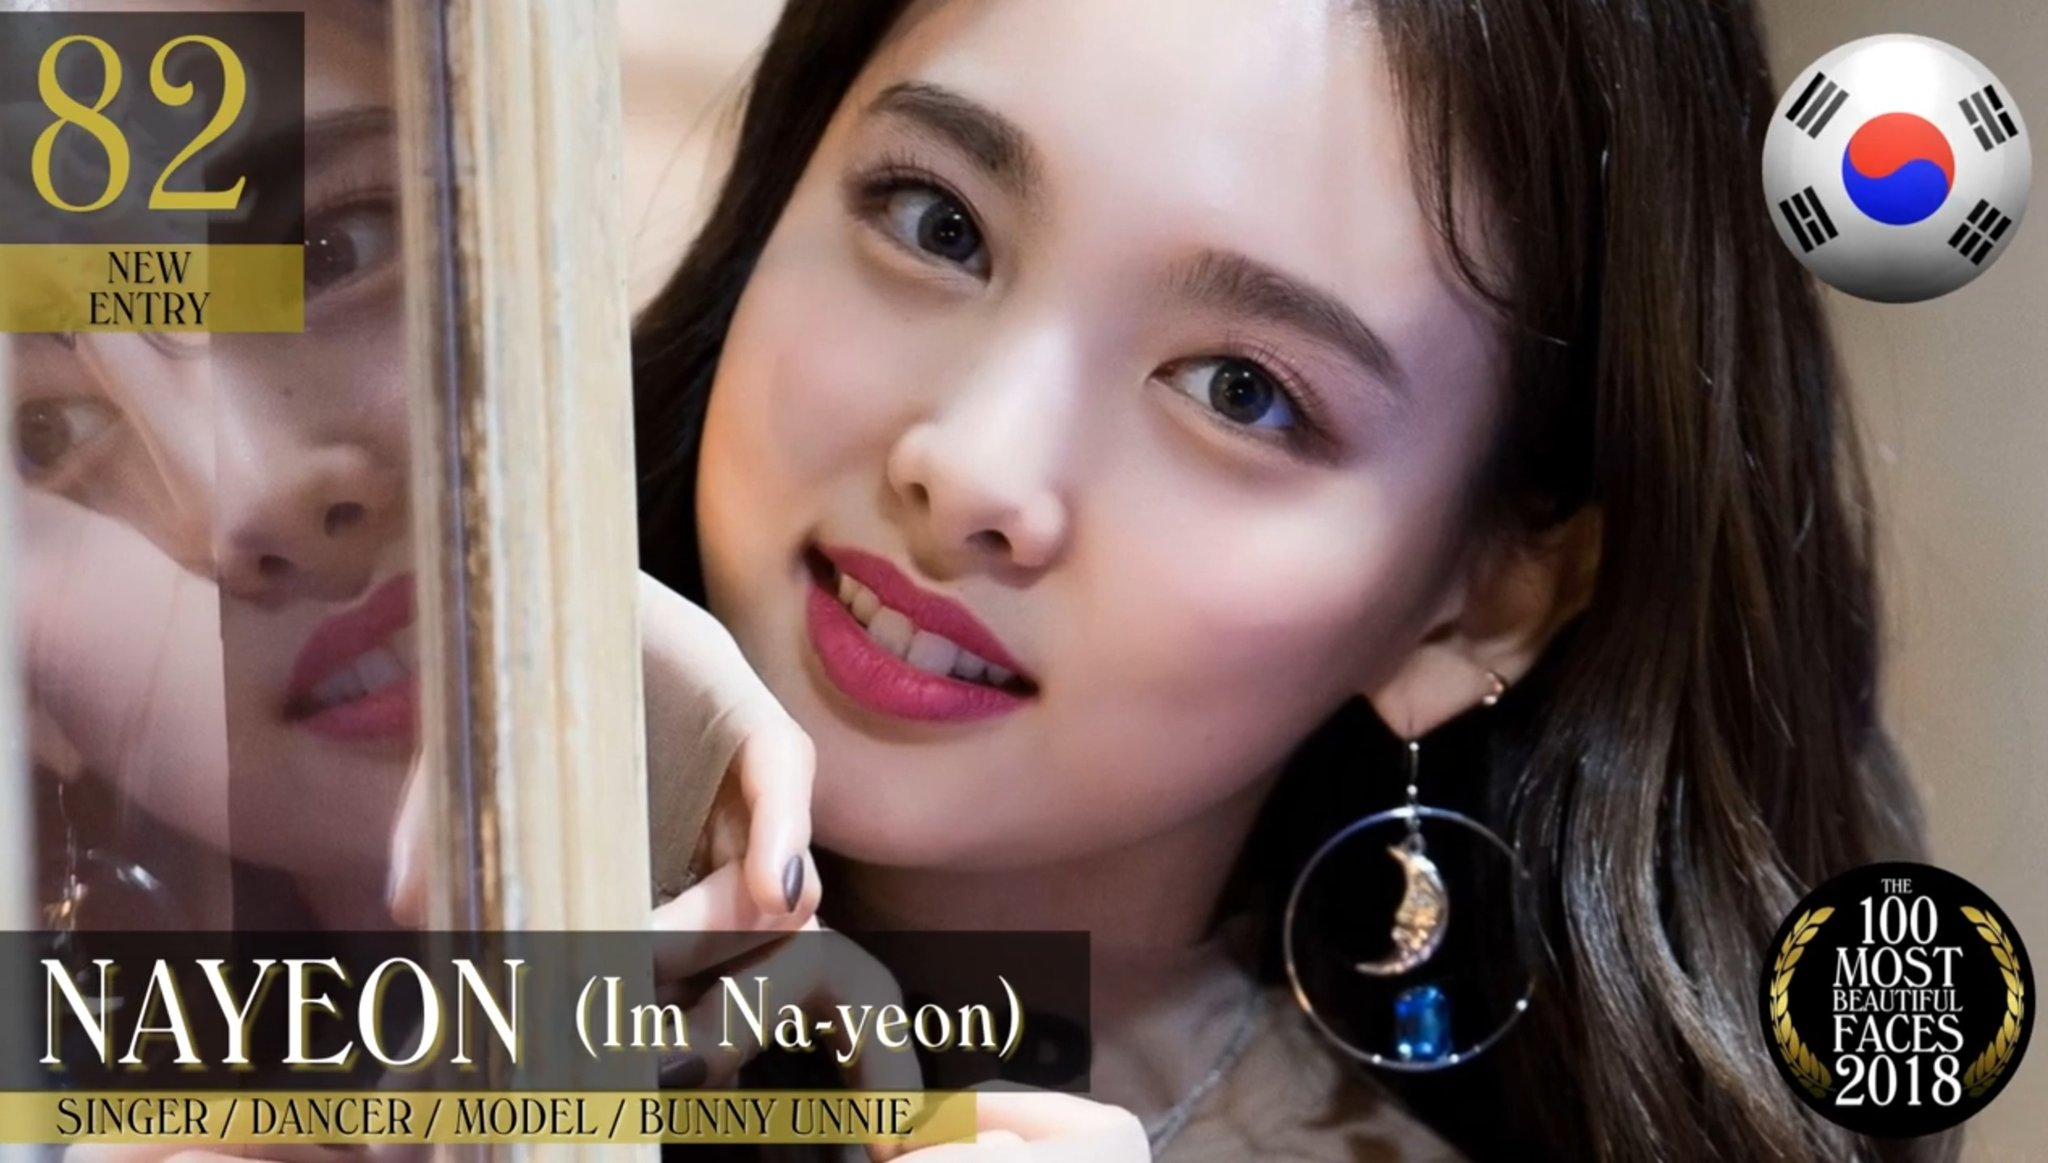no_mask: (694, 22, 1629, 941)
